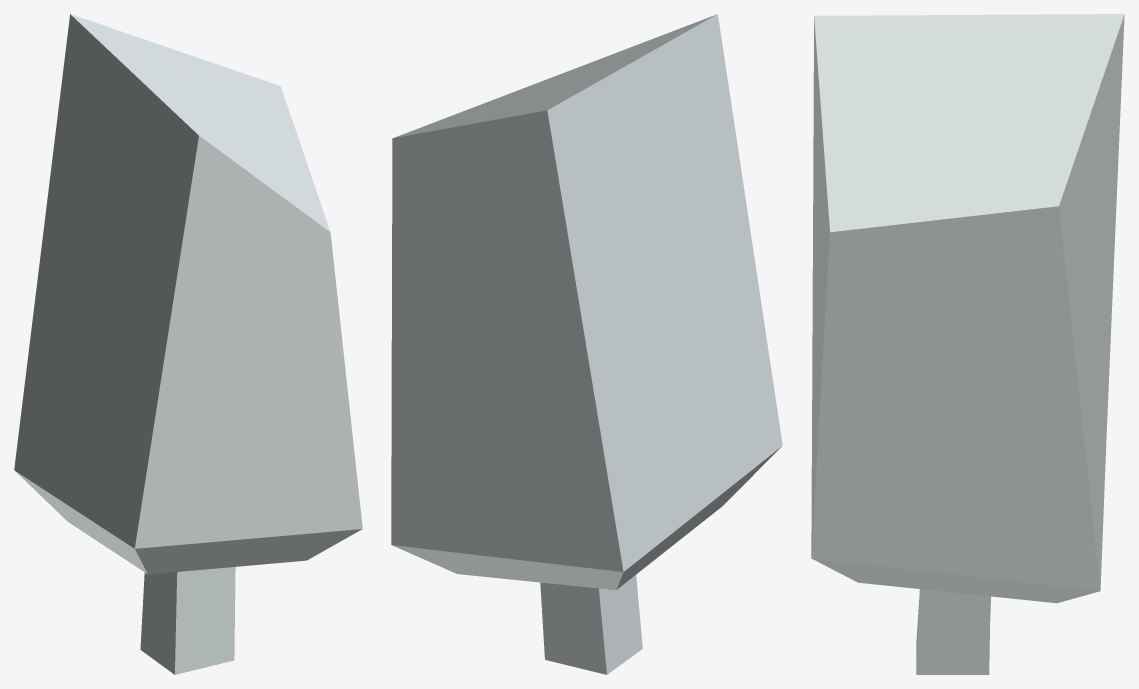
The model's file is Tree.005.fbx.
The picture shows the model from 3 angles, left to right: view 1: azimuth 30°, elevation 25°; view 2: azimuth 150°, elevation 25°; view 3: azimuth 270°, elevation 25°; orthographic projection. The views are drawn at different scales.
Visible parts, largest first — view 1: Tree.005; view 2: Tree.005; view 3: Tree.005.
Boxes of the visible parts, left/top/right/bottom form: Tree.005: left=14, top=14, right=362, bottom=674; Tree.005: left=391, top=14, right=782, bottom=674; Tree.005: left=811, top=14, right=1124, bottom=674.
Bounding box in the file's own units: 0.6614 × 1.43 × 0.6491.
